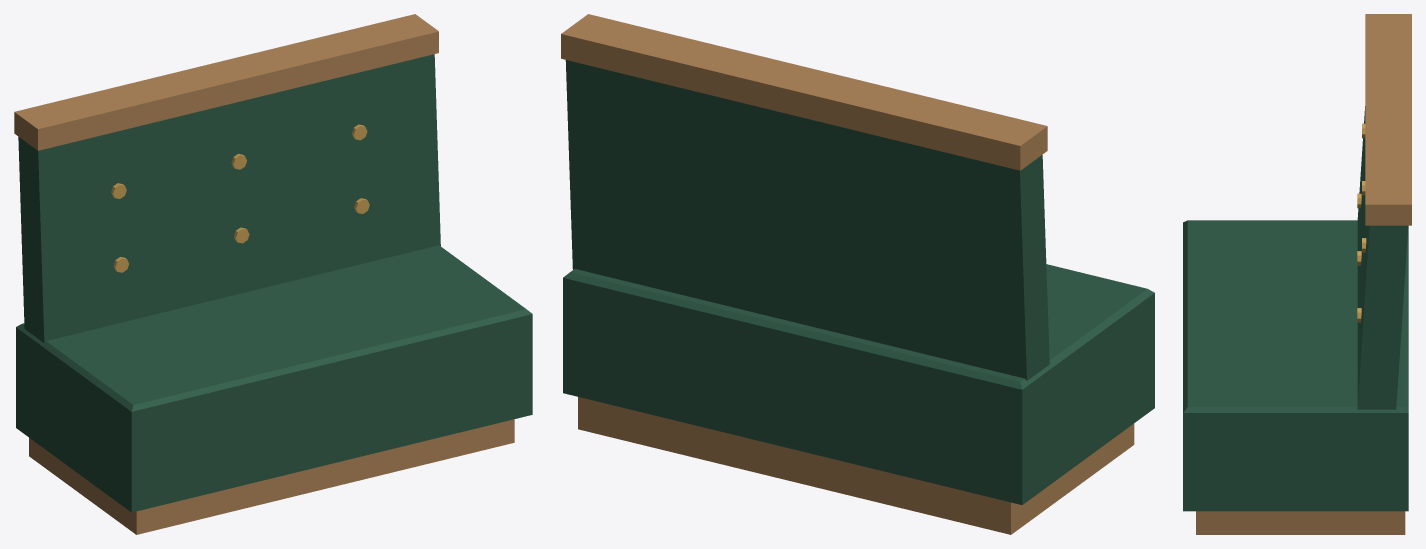
The model's file is FN_Booth_Banquette.glb.
3 renders of one model, left to right at view 1: azimuth 30°, elevation 25°; view 2: azimuth 150°, elevation 25°; view 3: azimuth 270°, elevation 25°, orthographic. The views are drawn at different scales.
Visible parts, largest first — view 1: FN_Booth_Banquette; view 2: FN_Booth_Banquette; view 3: FN_Booth_Banquette.
Part boxes in pixels (box(x1,y1,x2,y2)): FN_Booth_Banquette: box(14, 14, 532, 534); FN_Booth_Banquette: box(561, 14, 1154, 534); FN_Booth_Banquette: box(1183, 14, 1411, 534).
Bounding box in the file's own units: 1.4 × 1.15 × 0.71.
1 material, 1 textured.
